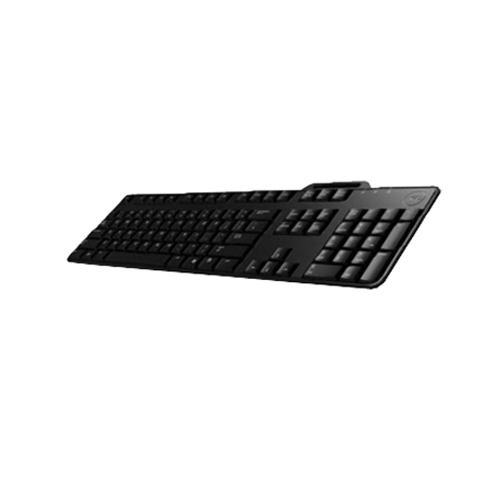Teclado: (57, 180, 443, 287)
